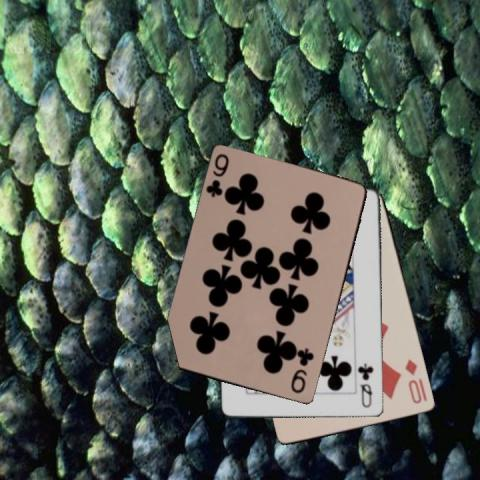10d: (402, 357, 429, 405)
9c: (289, 346, 316, 396), (203, 151, 231, 199)
Qc: (357, 361, 375, 409)
